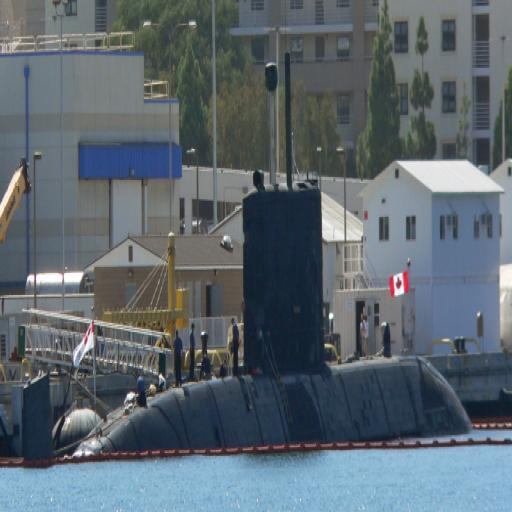submarine: (14, 47, 474, 461)
